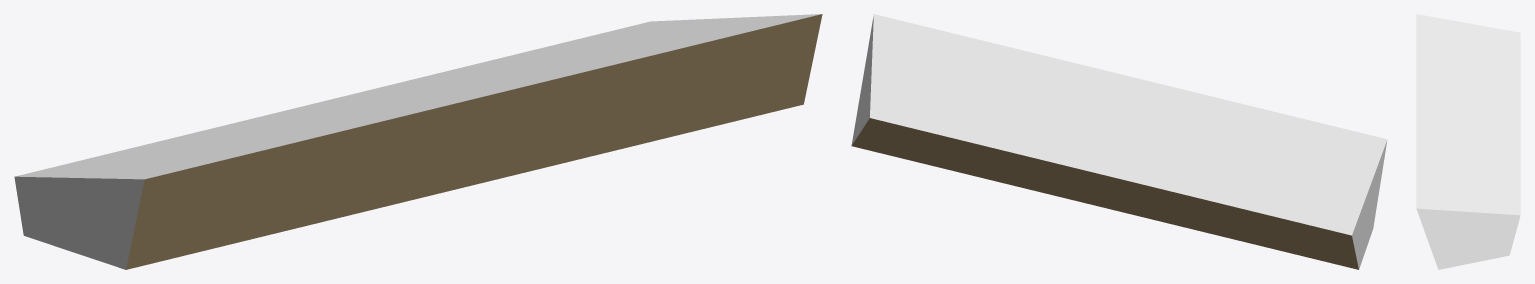
The model's file is Acacia_Firewood_Snow_05.fbx.
The picture shows the model from 3 angles, left to right: view 1: azimuth 30°, elevation 25°; view 2: azimuth 150°, elevation 25°; view 3: azimuth 270°, elevation 25°; orthographic projection. The views are drawn at different scales.
Parts seen in each view (by area): view 1: Acacia_Firewood_Snow_05; view 2: Acacia_Firewood_Snow_05; view 3: Acacia_Firewood_Snow_05.
Boxes of the visible parts, x1,y1,x2,y2 form: Acacia_Firewood_Snow_05: [14, 14, 822, 269]; Acacia_Firewood_Snow_05: [851, 14, 1387, 269]; Acacia_Firewood_Snow_05: [1416, 14, 1520, 269].
Bounding box in the file's own units: 56 × 7.76 × 11.95.
